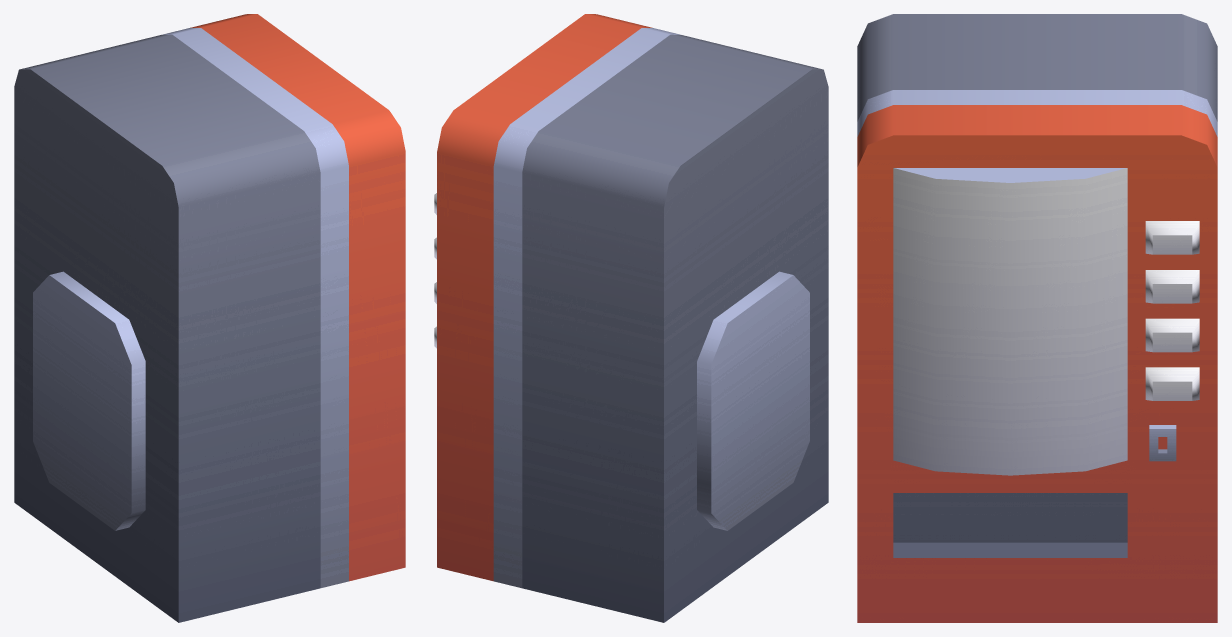
The model's file is vending-machine.002_lev2.glb.
3 views of the same model, side by side, from view 1: azimuth 30°, elevation 25°; view 2: azimuth 150°, elevation 25°; view 3: azimuth 270°, elevation 25° (orthographic). The views are drawn at different scales.
Parts seen in each view (by area): view 1: vending-machine.002_lev2; view 2: vending-machine.002_lev2; view 3: vending-machine.002_lev2.
Part boxes in pixels (x1,y1,x2,y2): vending-machine.002_lev2: [14, 14, 405, 622]; vending-machine.002_lev2: [434, 14, 828, 622]; vending-machine.002_lev2: [857, 14, 1217, 622].
Bounding box in the file's own units: 1.91 × 3.01 × 2.02.
Materials: 1 (1 with a texture image).
